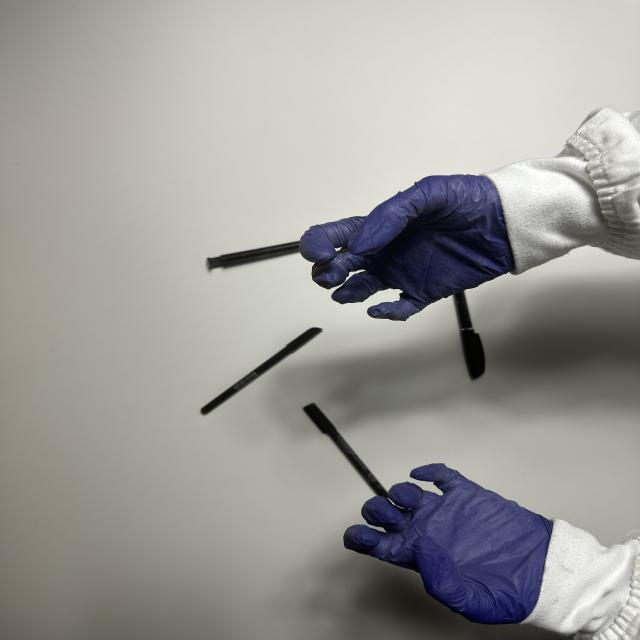gloves_contaminated: (344, 464, 552, 624), (300, 175, 513, 320)
